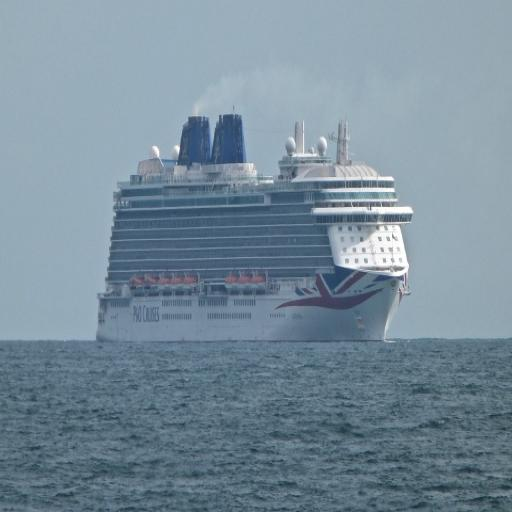cruises: (94, 108, 417, 350)
